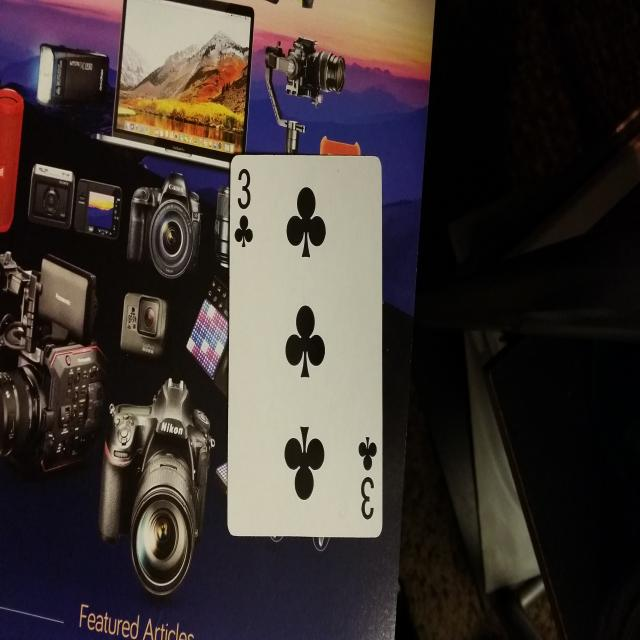3c: (350, 428, 382, 528), (232, 159, 258, 260)
